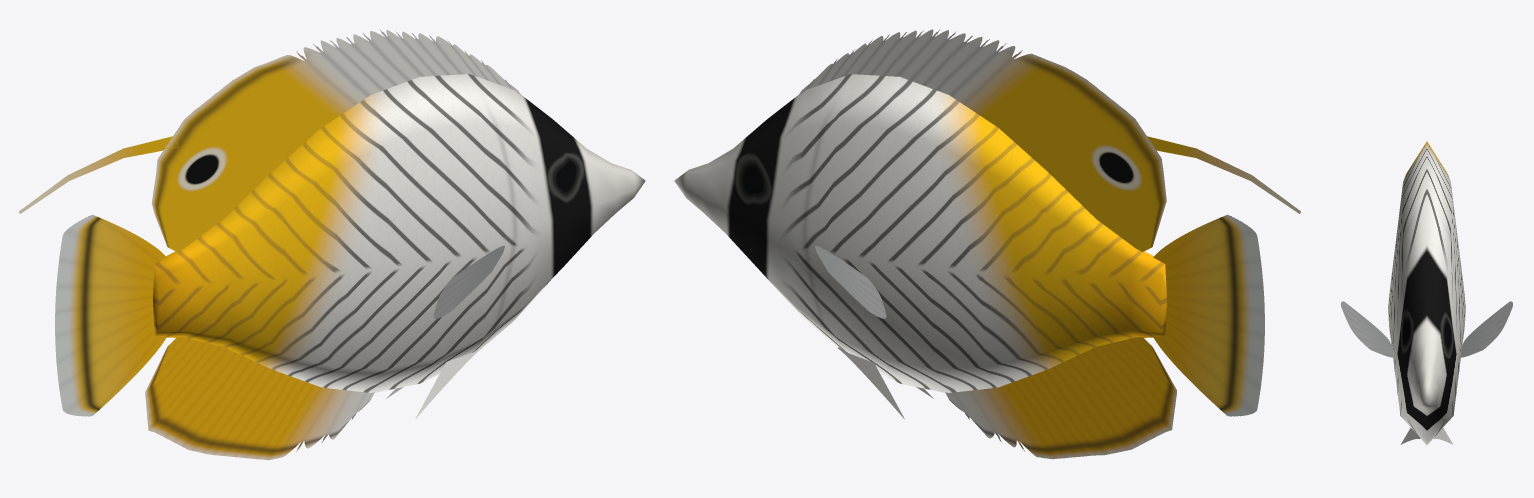
File: Fish_ThreadfinButterfly.gltf
The picture shows the model from 3 angles, left to right: view 1: azimuth 30°, elevation 25°; view 2: azimuth 150°, elevation 25°; view 3: azimuth 270°, elevation 25°; orthographic projection. The views are drawn at different scales.
Visible parts, largest first — view 1: Fish_ThreadfinButterfly; view 2: Fish_ThreadfinButterfly; view 3: Fish_ThreadfinButterfly.
Part boxes in pixels (x1=…): Fish_ThreadfinButterfly: x1=19, y1=29, x2=645, y2=460; Fish_ThreadfinButterfly: x1=674, y1=29, x2=1300, y2=459; Fish_ThreadfinButterfly: x1=1341, y1=141, x2=1512, y2=444.
Bounding box in the file's own units: 0.1553 × 0.1063 × 0.0444.
1 material, 1 textured.
